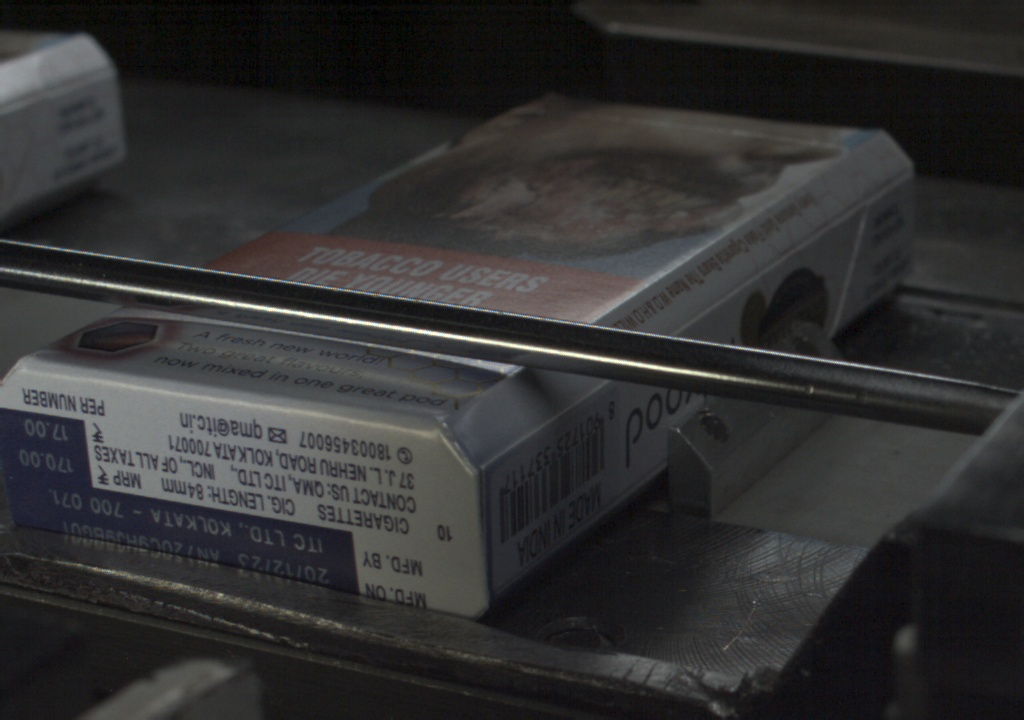g_bottom: (2, 363, 475, 622)
g_label: (1, 485, 357, 597)
g_lmiter: (674, 272, 769, 336), (771, 205, 862, 270), (482, 424, 548, 466), (549, 380, 608, 422)
g_miter: (869, 164, 914, 198)
price: (2, 414, 89, 482)
